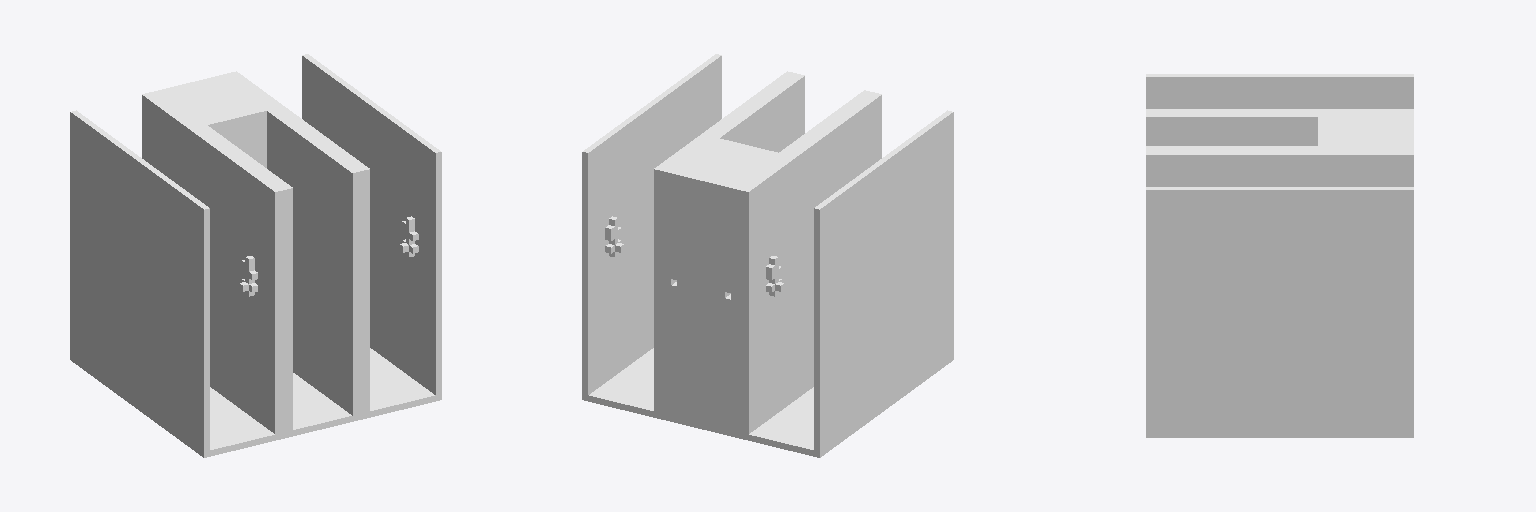
The model's file is SalaFechadaa2.obj.
3 renders of one model, left to right at view 1: azimuth 30°, elevation 25°; view 2: azimuth 150°, elevation 25°; view 3: azimuth 270°, elevation 25°, orthographic.
Parts seen in each view (by area): view 1: SalaFechadaa2; view 2: SalaFechadaa2; view 3: SalaFechadaa2.
Part boxes in pixels (x1,y1,x2,y2): SalaFechadaa2: (70,54,441,457); SalaFechadaa2: (582,54,953,457); SalaFechadaa2: (1146,74,1413,437).
Bounding box in the file's own units: 40 × 40 × 39.